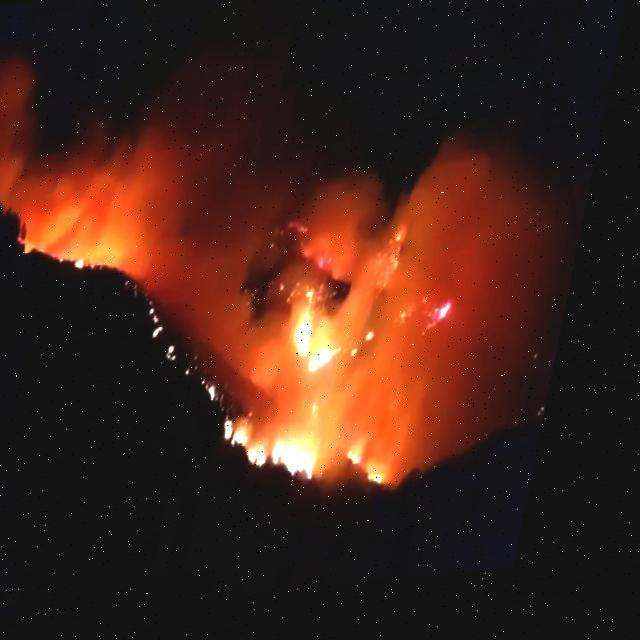Fire: (231, 418, 343, 498), (302, 293, 362, 383), (384, 472, 410, 498), (445, 309, 468, 336), (365, 454, 385, 478)
